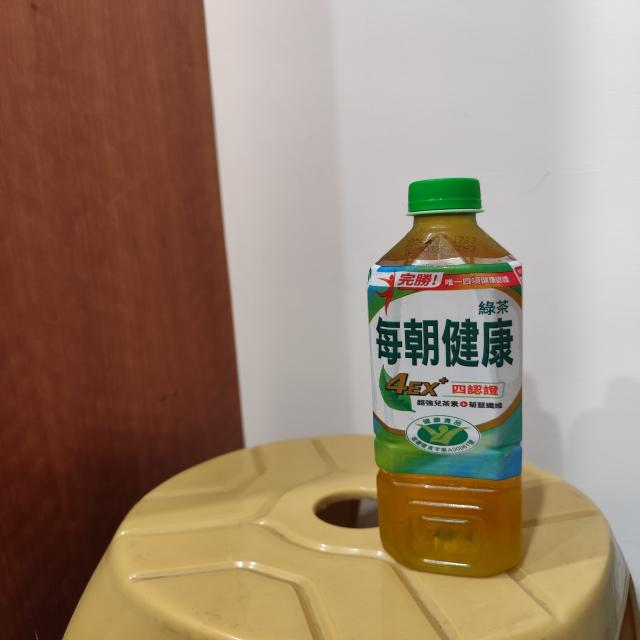MeiChou_GreenTea: (350, 164, 542, 582)
